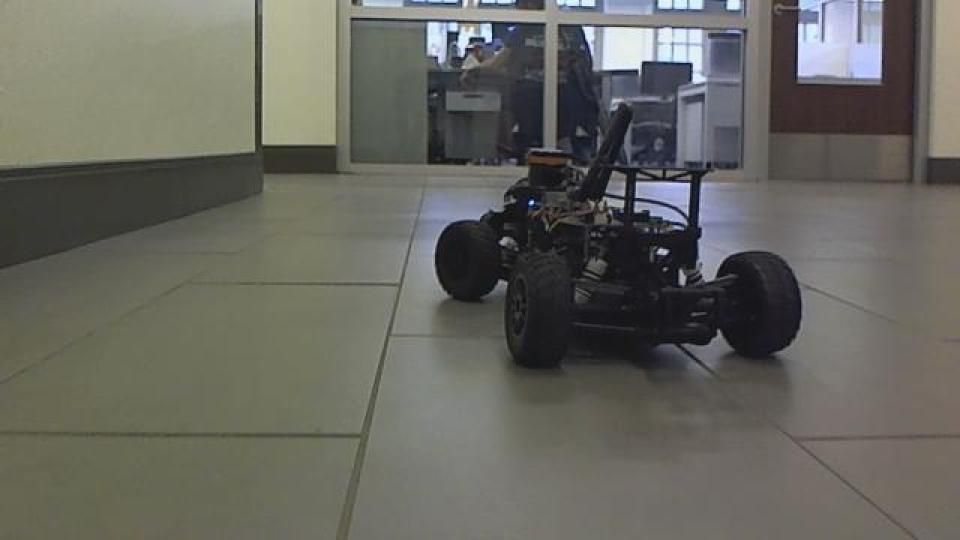car: (431, 99, 806, 372)
